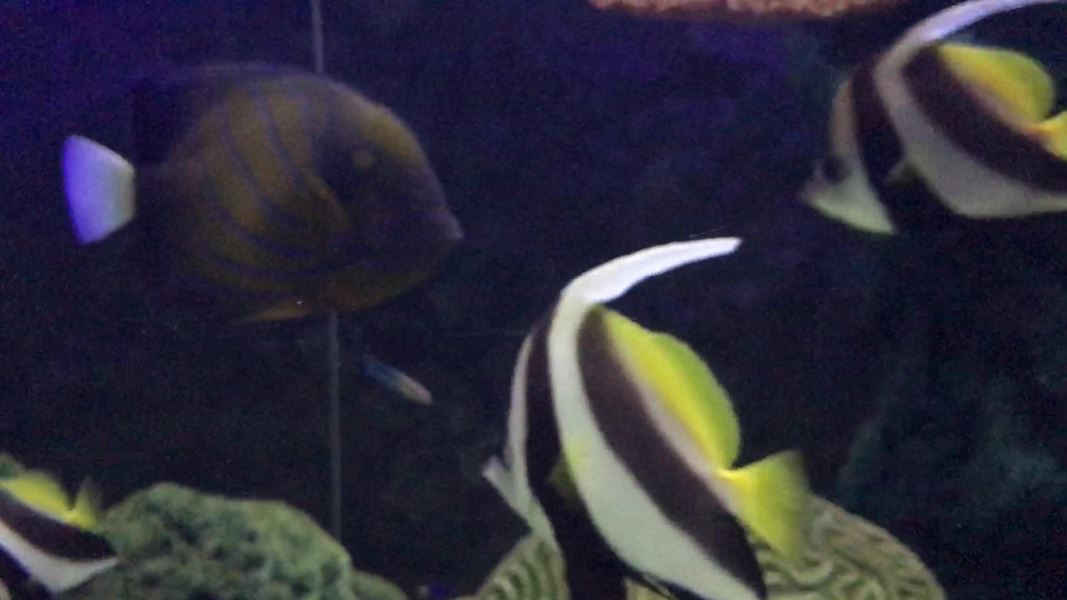Blue ring angelfish: (44, 49, 475, 336)
